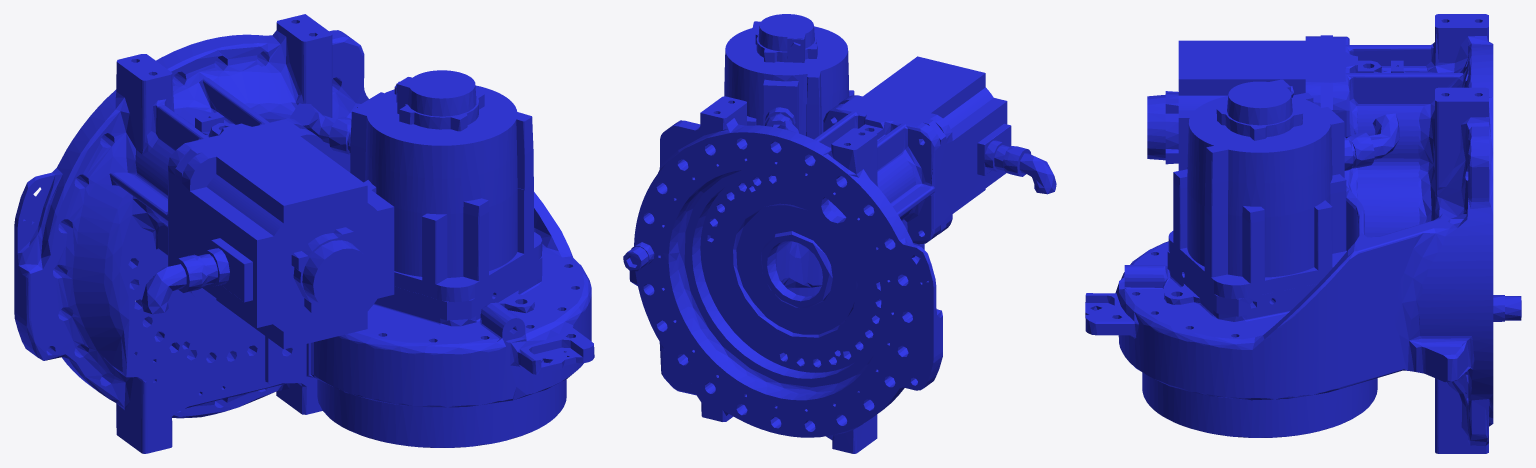
3 renders of one model, left to right at view 1: azimuth 30°, elevation 25°; view 2: azimuth 150°, elevation 25°; view 3: azimuth 270°, elevation 25°, orthographic. The views are drawn at different scales.
Visible parts, largest first — view 1: /Link1/Link1-mesh/0; view 2: /Link1/Link1-mesh/0; view 3: /Link1/Link1-mesh/0.
Boxes of the visible parts, bbox=[...] form: /Link1/Link1-mesh/0: bbox=[14, 14, 594, 453]; /Link1/Link1-mesh/0: bbox=[623, 14, 1056, 453]; /Link1/Link1-mesh/0: bbox=[1085, 14, 1521, 453].
Bounding box in the file's own units: 0.5819 × 0.4865 × 0.525.
